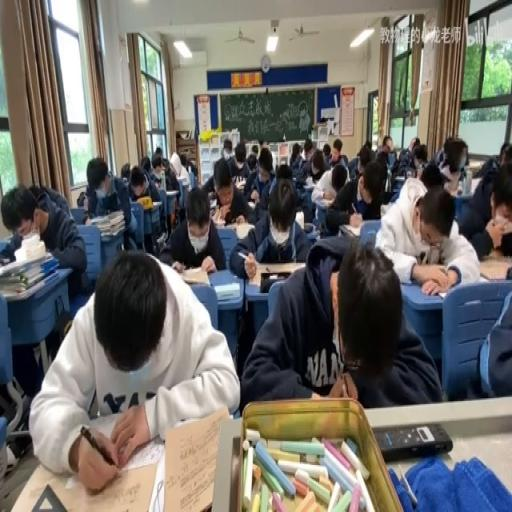calculator: (21, 458, 156, 512), (86, 407, 164, 469), (146, 448, 166, 512), (478, 257, 510, 279), (179, 266, 211, 286), (426, 279, 456, 296), (213, 282, 241, 300), (234, 219, 256, 240), (100, 190, 118, 212), (341, 222, 361, 237), (210, 205, 226, 223), (154, 232, 166, 247), (314, 195, 330, 206), (234, 176, 246, 188), (176, 174, 188, 184), (166, 186, 178, 196), (304, 176, 314, 188), (394, 172, 406, 181), (150, 198, 162, 206), (245, 199, 254, 209), (209, 196, 217, 206)
paper: (32, 246, 238, 489), (242, 233, 436, 411), (376, 176, 482, 292), (0, 182, 85, 297), (227, 178, 311, 276), (160, 184, 225, 272), (467, 280, 512, 401), (326, 156, 388, 232), (83, 156, 134, 246), (471, 162, 512, 260), (434, 135, 469, 194), (224, 141, 250, 183), (390, 141, 416, 175), (290, 138, 312, 176), (419, 162, 443, 189), (140, 153, 160, 185), (309, 150, 325, 180), (331, 164, 347, 192), (412, 144, 427, 169), (258, 149, 272, 175), (346, 154, 362, 176), (498, 232, 512, 257), (76, 189, 90, 212), (275, 160, 292, 178), (498, 141, 512, 161), (376, 148, 390, 168), (322, 142, 332, 169), (246, 152, 258, 174), (380, 134, 394, 152), (120, 160, 130, 184), (178, 152, 188, 174), (434, 146, 444, 165), (331, 141, 341, 158), (458, 165, 466, 183), (338, 154, 348, 168), (363, 140, 372, 154), (152, 145, 162, 157), (187, 158, 196, 171), (161, 156, 169, 170)
person: (373, 420, 453, 460), (259, 270, 291, 293), (294, 175, 306, 188), (302, 220, 314, 232), (0, 256, 11, 265)
